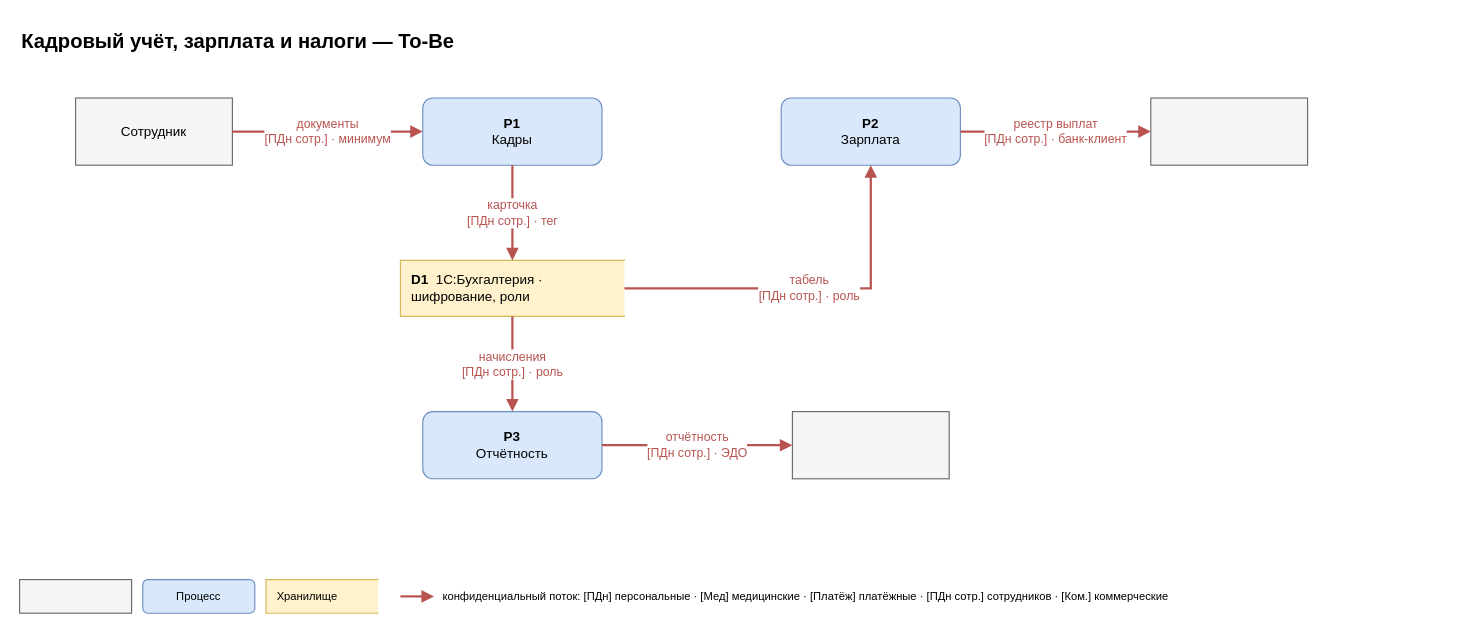
This 1468x633 diagram has some shape labels left out. Each missing label, with the box of its shape:
Банк: (1150, 97, 1308, 165)
Внешний субъект: (18, 578, 132, 613)
Налоговые органы: (791, 410, 949, 479)
